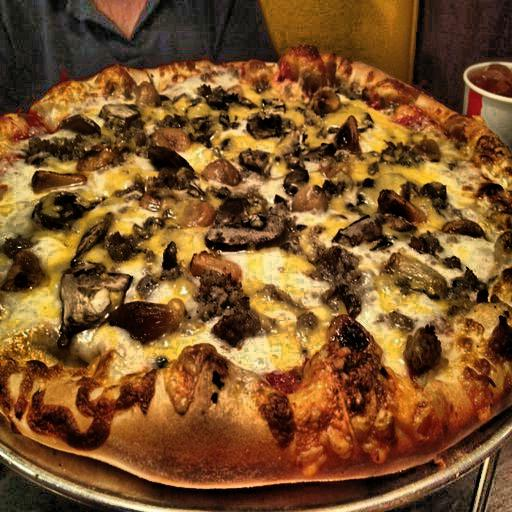pizza: (2, 45, 509, 461)
